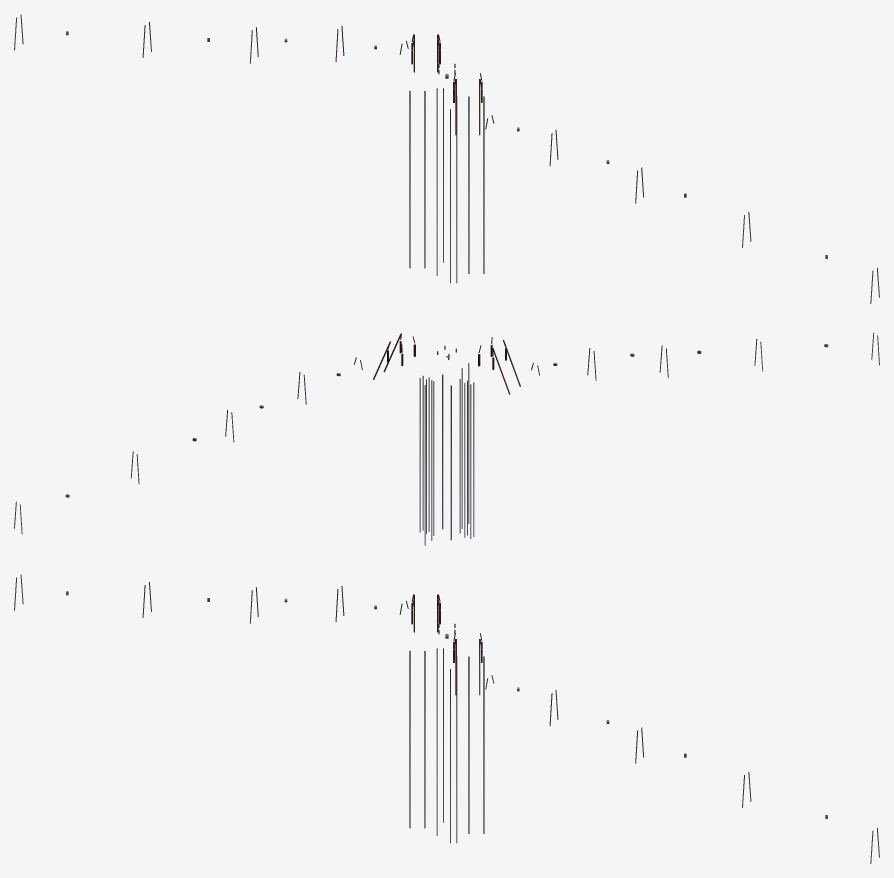
File: pithead_rusty.glb
The picture shows the model from 3 angles, top to bottom: view 1: azimuth 90°, elevation 25°; view 2: azimuth 150°, elevation 25°; view 3: azimuth 270°, elevation 25°; orthographic projection. The views are drawn at different scales.
Parts seen in each view (by area): view 1: rusty; view 2: rusty; view 3: rusty.
Boxes of the visible parts, x1,y1,x2,y2 form: rusty: (14, 14, 879, 303); rusty: (14, 332, 879, 545); rusty: (14, 574, 879, 863).
Bounding box in the file's own units: 230 × 88.51 × 324.
